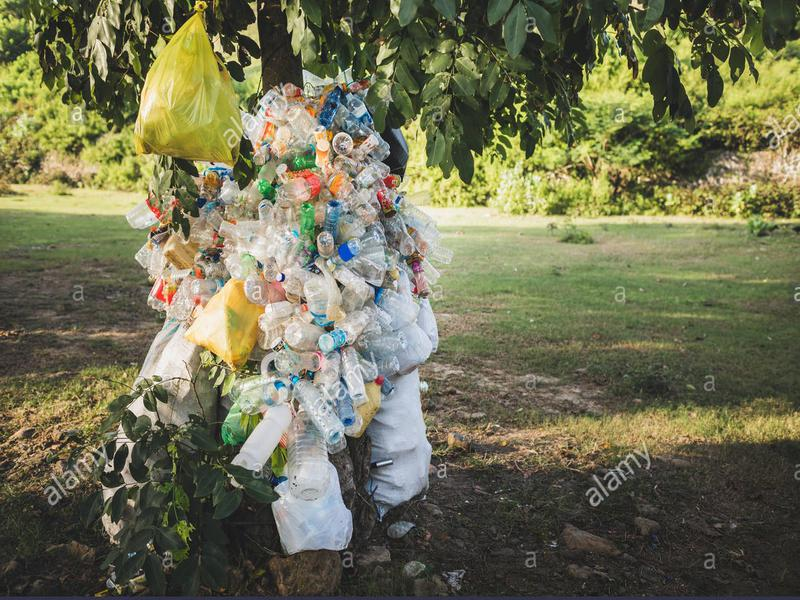bottle: (287, 372, 350, 444)
plastic: (128, 4, 251, 166), (366, 373, 441, 524), (186, 284, 263, 367), (267, 493, 359, 556)
